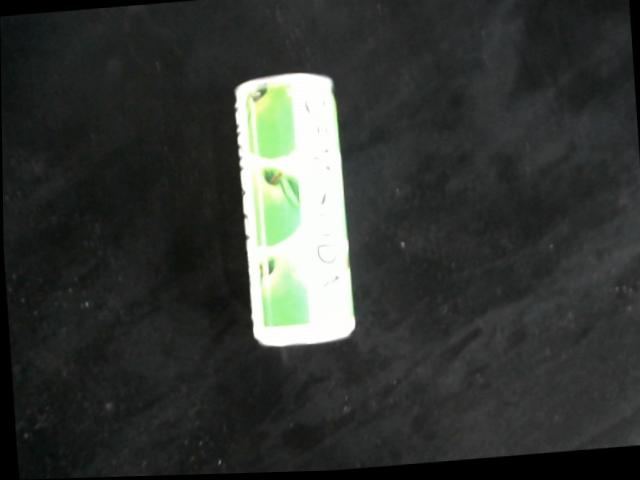can: (232, 74, 357, 350)
